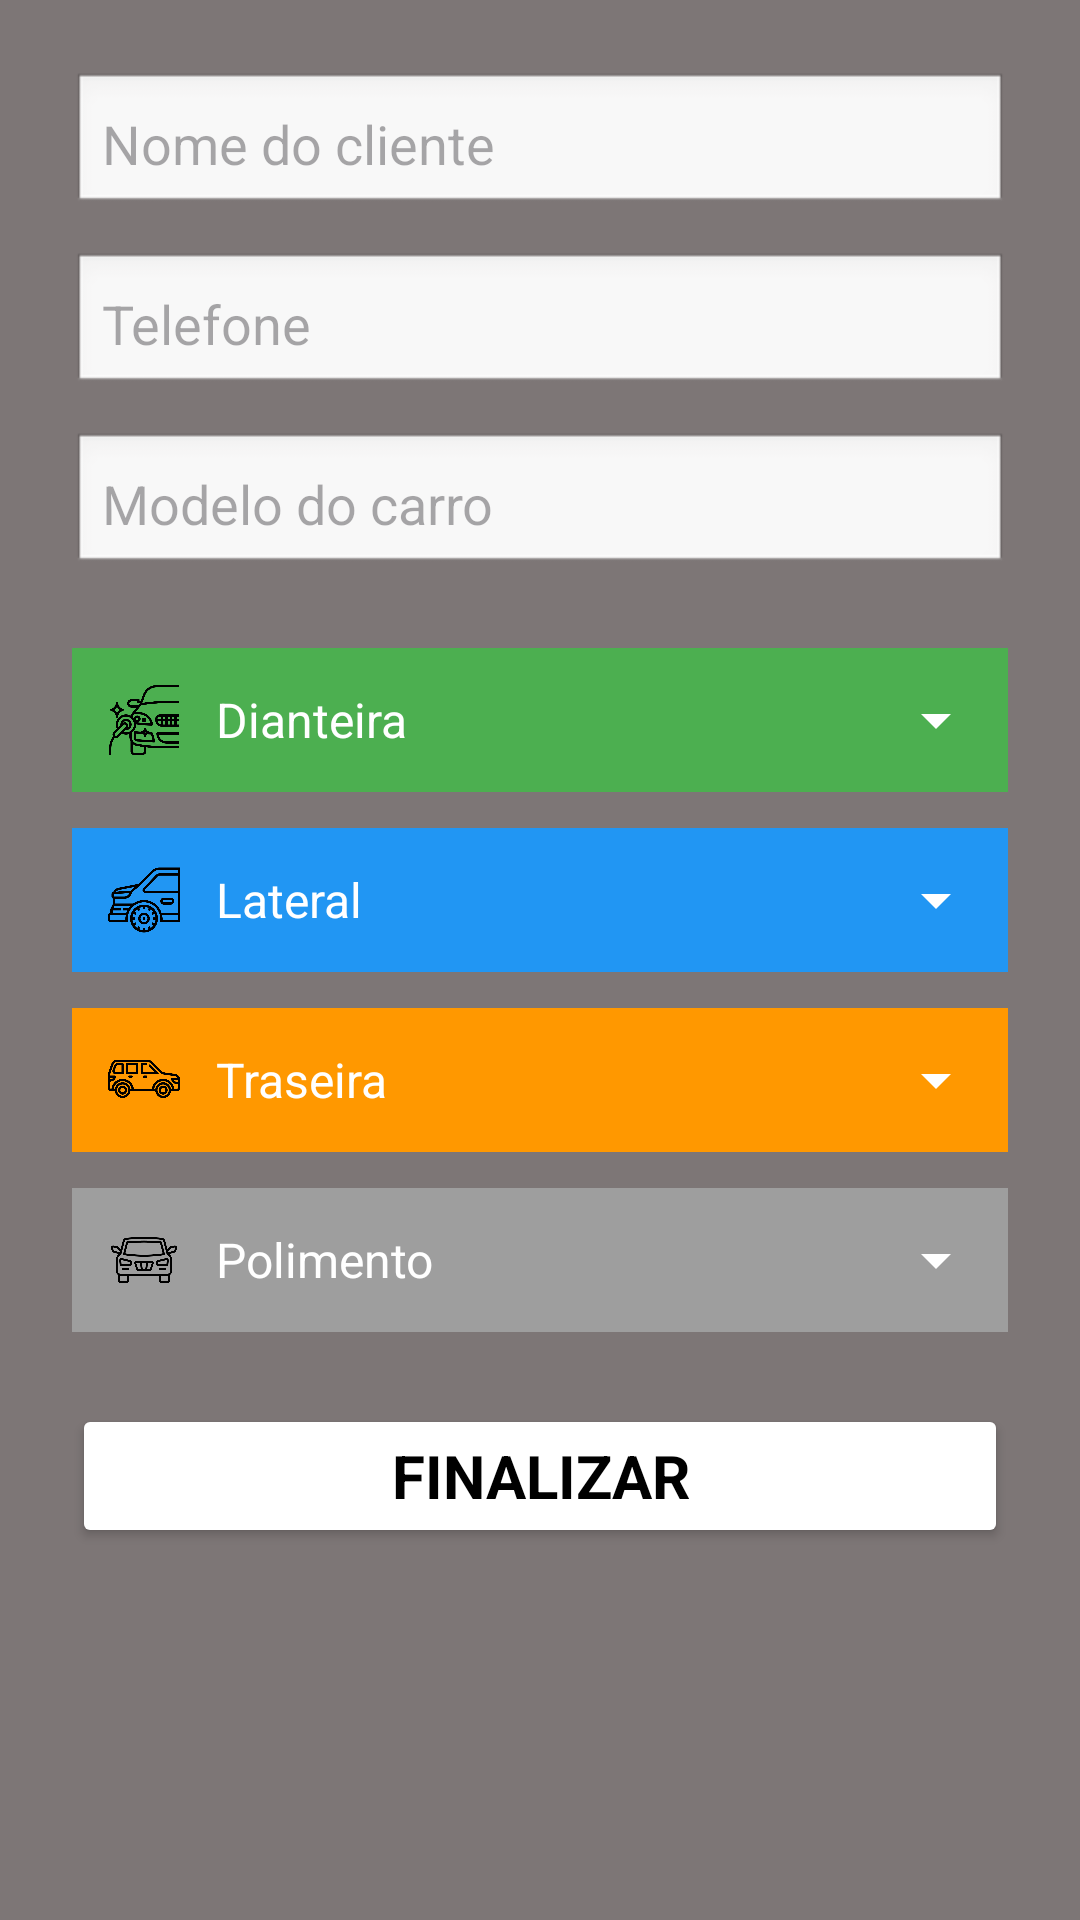

Screen size 1080px×1920px. Icon name, then its box in pixels as (x1, y1, x2, y2):
arrow down: (921, 714, 951, 729), (921, 894, 951, 909), (921, 1074, 951, 1089), (921, 1254, 951, 1269)
